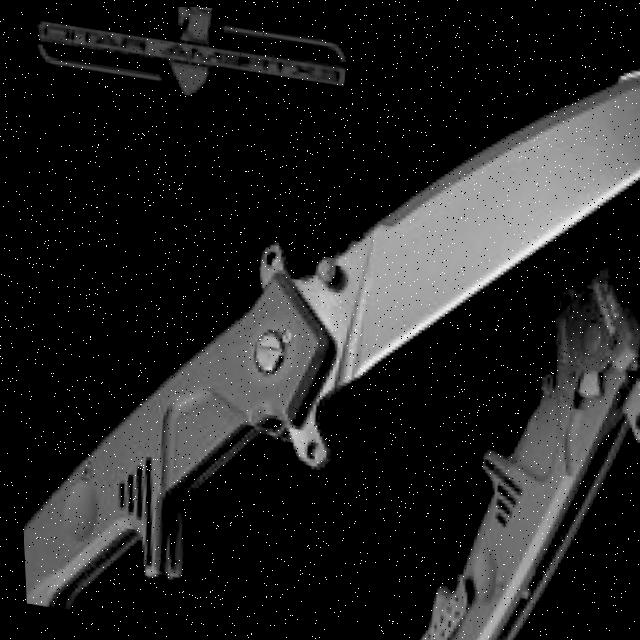knife: (0, 0, 640, 640), (421, 228, 640, 640)
